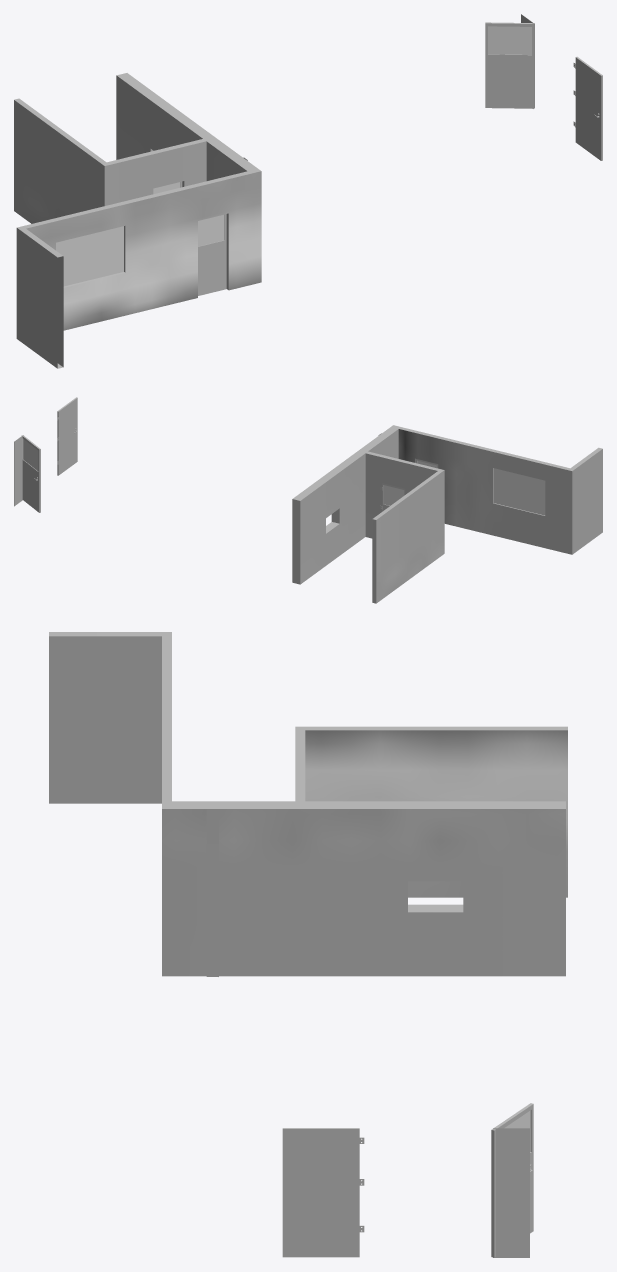
The model's file is KitchendividerNEW.fbx.
3 views of the same model, one above another, from view 1: azimuth 30°, elevation 25°; view 2: azimuth 150°, elevation 25°; view 3: azimuth 270°, elevation 25° (orthographic). The views are drawn at different scales.
Parts seen in each view (by area): view 1: Doors; view 2: Doors; view 3: Doors.
Part boxes in pixels (left/top/right/bottom): Doors: left=14, top=14, right=602, bottom=368; Doors: left=14, top=397, right=602, bottom=603; Doors: left=49, top=632, right=567, bottom=1257.
Size of the model in its own units: 978 by 167 by 468.
